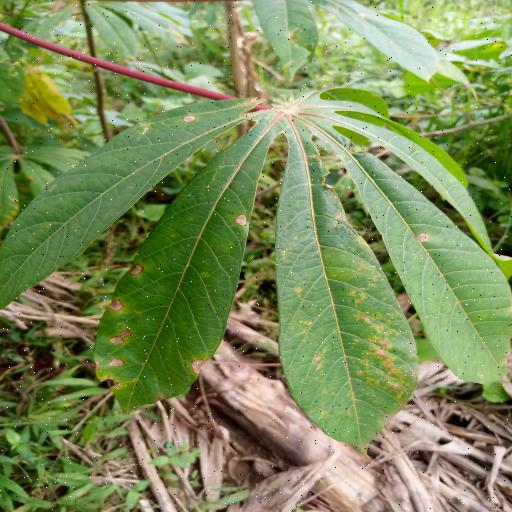Cassava_Brown_Leaf_Spot: (5, 87, 512, 452)
